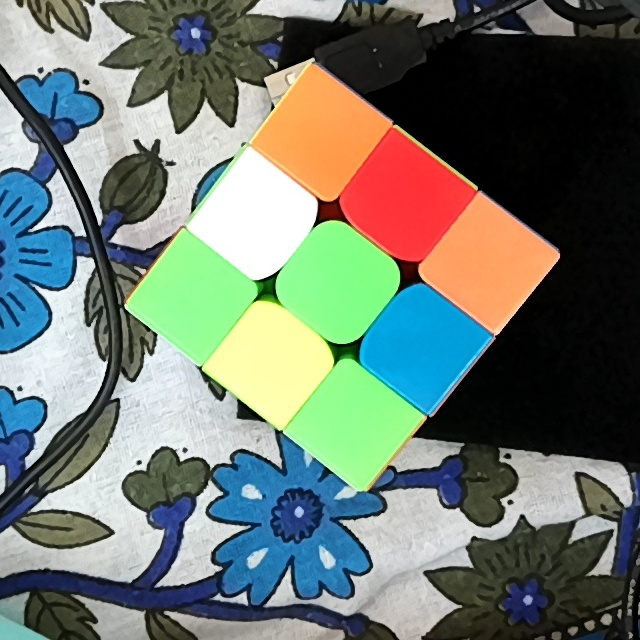tile: (366, 163, 442, 234), (449, 228, 522, 299), (301, 252, 372, 321), (285, 99, 357, 167), (317, 393, 388, 458), (386, 313, 455, 378), (224, 185, 291, 251), (160, 263, 224, 332), (239, 331, 304, 396)
